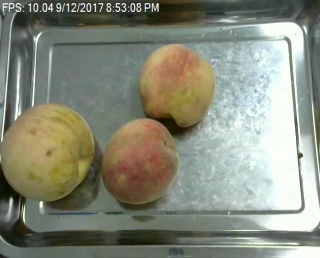Peach: (1, 101, 98, 203), (100, 117, 178, 205), (139, 41, 216, 128)
